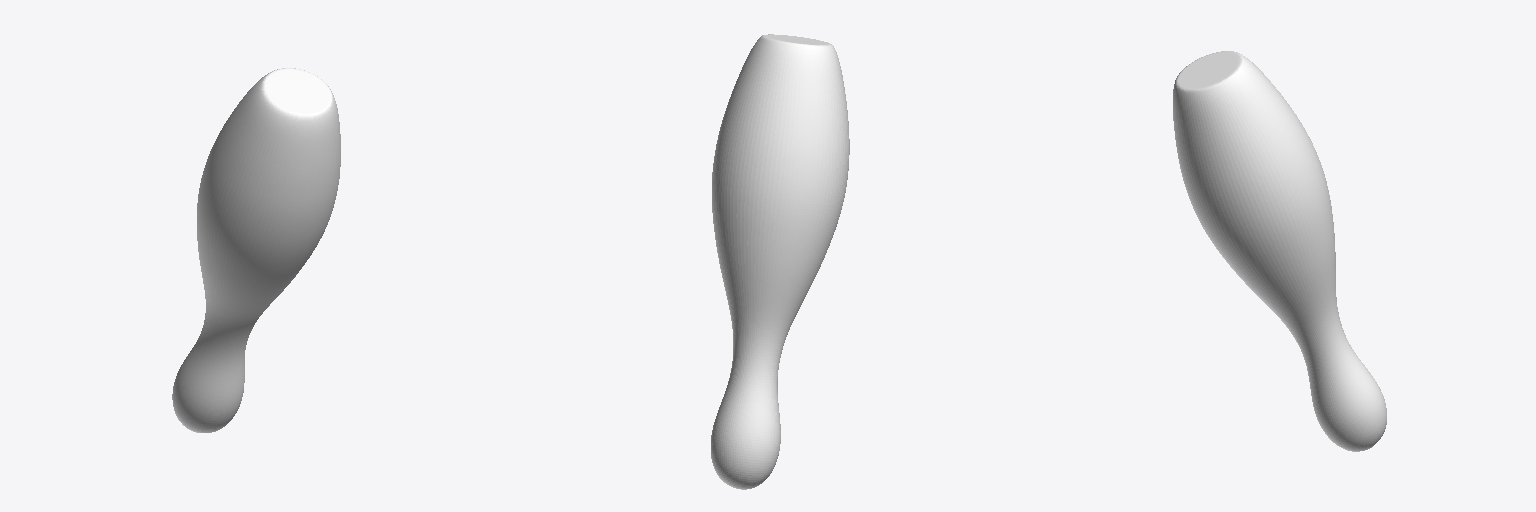
File: bolo.obj
3 renders of one model, left to right at view 1: azimuth 30°, elevation 25°; view 2: azimuth 150°, elevation 25°; view 3: azimuth 270°, elevation 25°, orthographic.
Visible parts, largest first — view 1: Pin_Bowling.001; view 2: Pin_Bowling.001; view 3: Pin_Bowling.001.
Part boxes in pixels (bbox=[...]): Pin_Bowling.001: bbox=[172, 68, 340, 432]; Pin_Bowling.001: bbox=[711, 34, 849, 489]; Pin_Bowling.001: bbox=[1173, 51, 1386, 451].
Size of the model in its own units: 80.71 by 262 by 128.